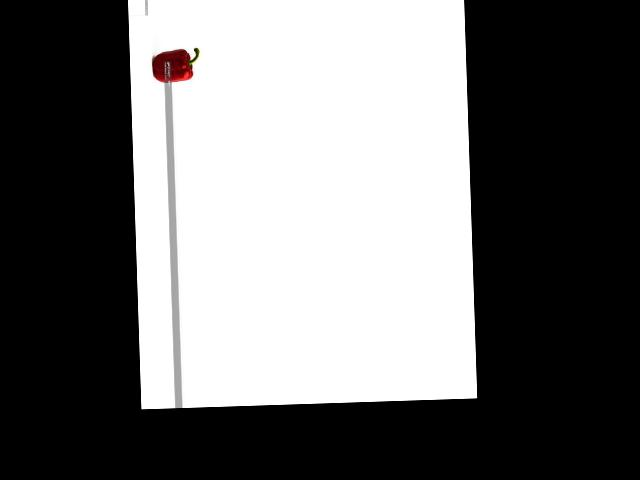bell_pepper: (153, 43, 202, 85)
